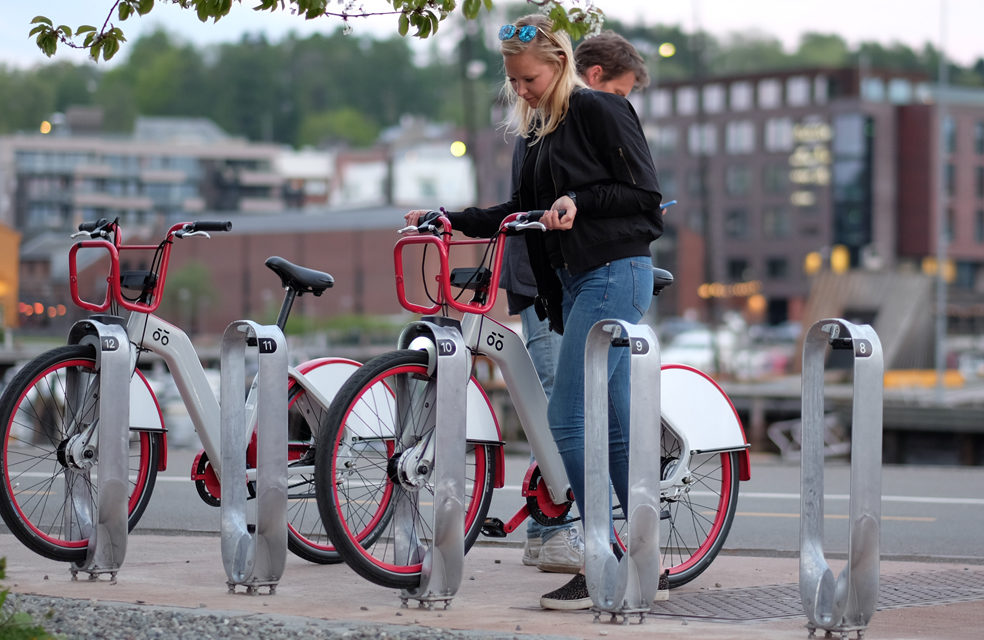Person: (404, 13, 671, 609)
